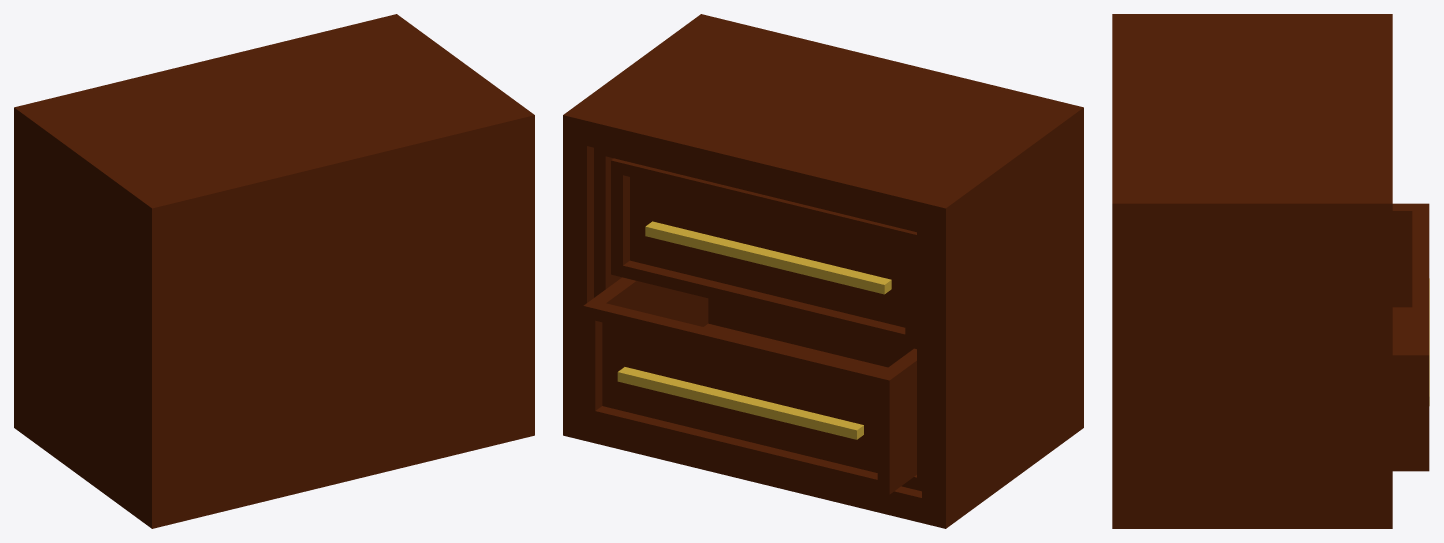
File: Blockout_Dresser_07.fbx
3 renders of one model, left to right at view 1: azimuth 30°, elevation 25°; view 2: azimuth 150°, elevation 25°; view 3: azimuth 270°, elevation 25°, orthographic.
Parts seen in each view (by area): view 1: Dresser_01; view 2: Dresser_01, Dresser_Shelf_01, Dresser_Shelf_02; view 3: Dresser_01, Dresser_Shelf_01.
Part boxes in pixels (box(x1,y1,x2,y2)): Dresser_01: box(14, 14, 534, 528); Dresser_01: box(563, 14, 1083, 528); Dresser_Shelf_01: box(583, 277, 916, 494); Dresser_Shelf_02: box(611, 158, 916, 348); Dresser_01: box(1112, 14, 1392, 528); Dresser_Shelf_01: box(1392, 203, 1429, 471).
Bounding box in the file's own units: 80 × 64 × 56.59.
